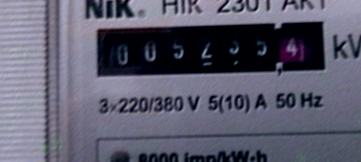0: (114, 41, 130, 66), (142, 38, 158, 62)
2: (197, 34, 214, 60)
3: (224, 31, 242, 56)
4: (282, 30, 301, 59)
5: (252, 29, 269, 58), (170, 35, 185, 60)
screen: (83, 11, 334, 85)
